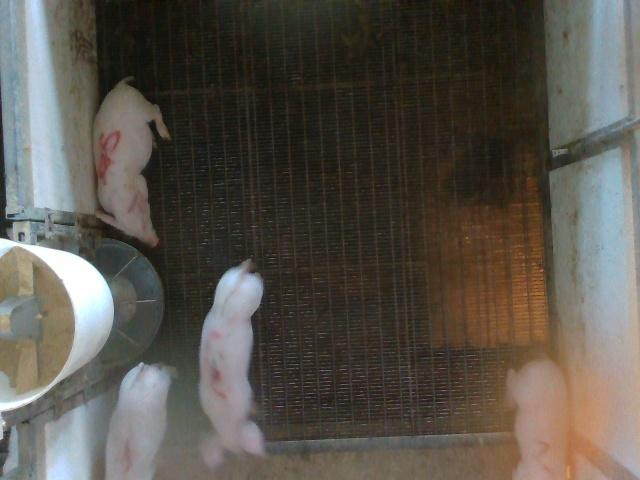pig-1: (105, 362, 175, 478)
pig-2: (506, 359, 568, 478)
pig-3: (199, 259, 265, 469)
pig-5: (94, 76, 170, 246)
